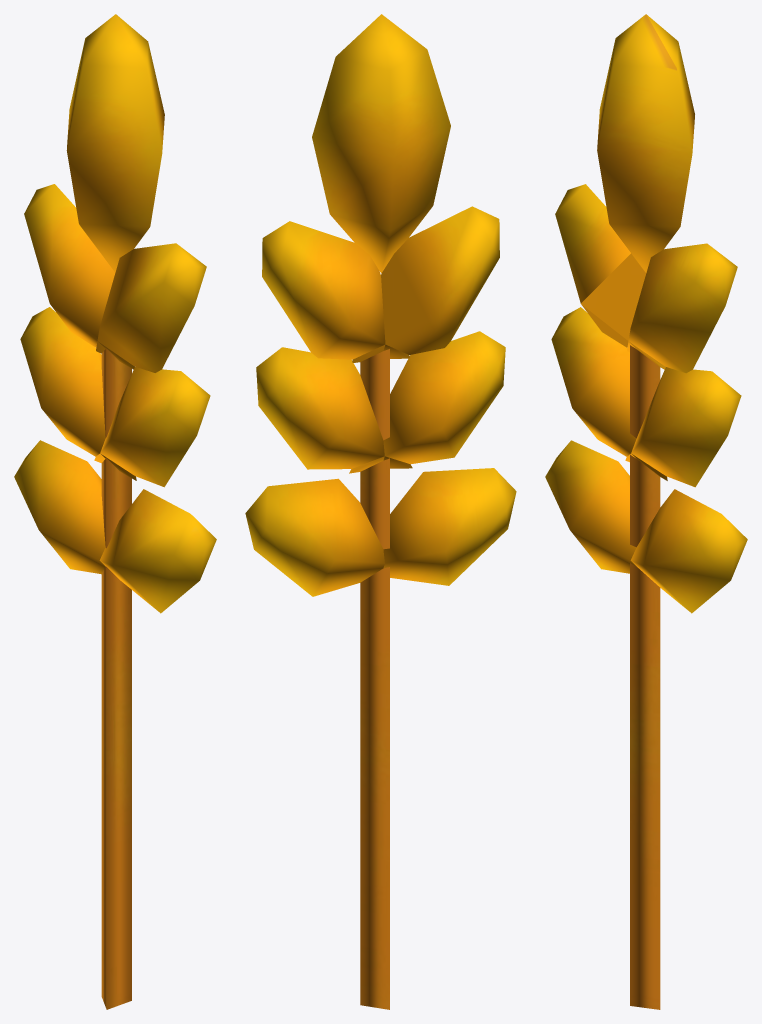
3 renders of one model, left to right at view 1: azimuth 90°, elevation 25°; view 2: azimuth 150°, elevation 25°; view 3: azimuth 270°, elevation 25°, orthographic.
Visible parts, largest first — view 1: maizi; view 2: maizi; view 3: maizi.
Part boxes in pixels (x1,y1,x2,y2): maizi: (14,14,216,1009); maizi: (245,14,516,1009); maizi: (545,14,747,1009).
Size of the model in its own units: 42.71 by 210 by 38.99.
